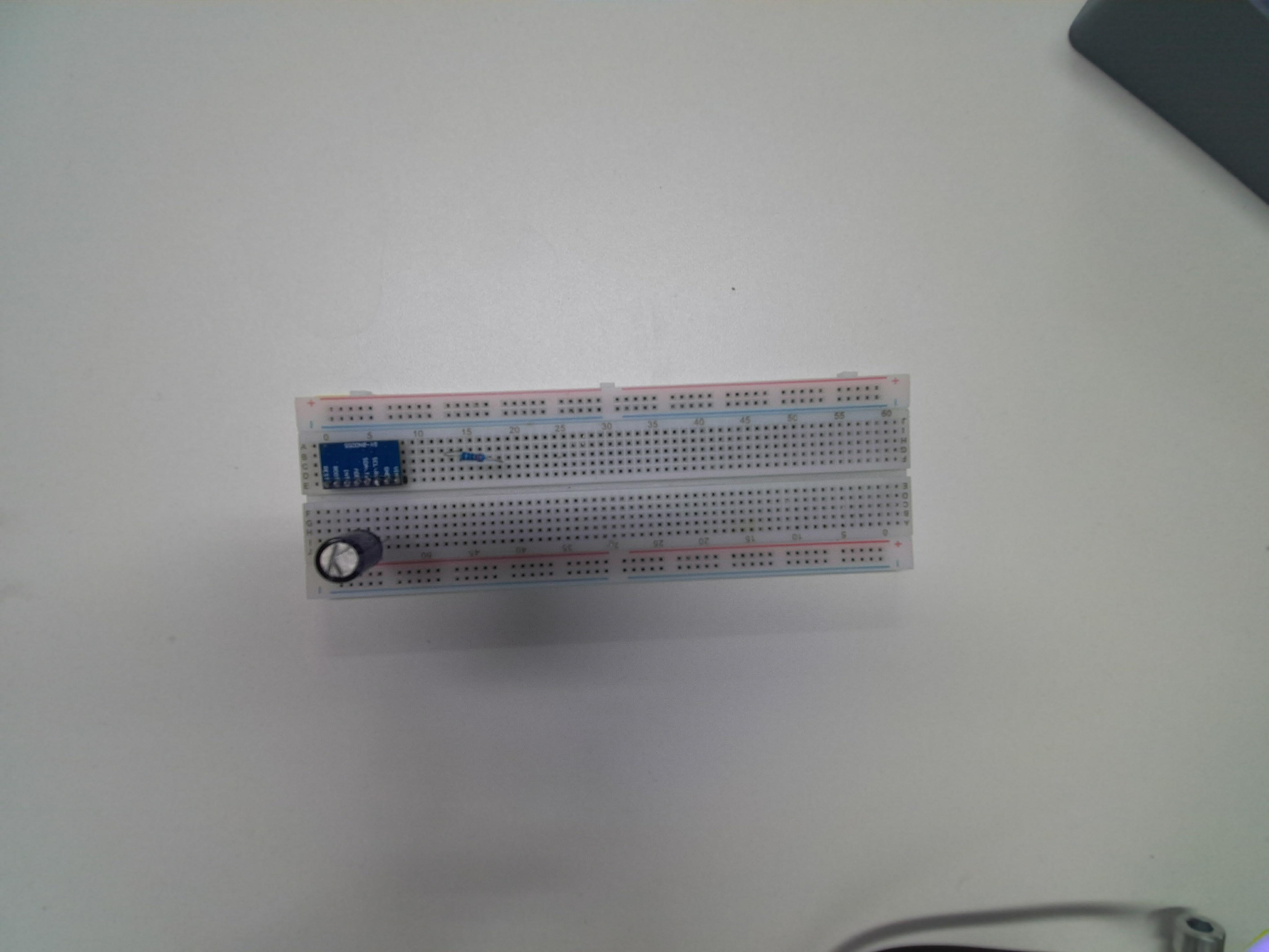base: (292, 377, 916, 597)
blue-board: (317, 435, 407, 491)
capacitor: (315, 527, 382, 584)
resistor-small: (459, 451, 488, 464)
